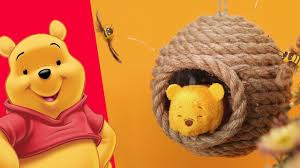Winnie: (1, 17, 101, 149), (164, 82, 228, 138)
